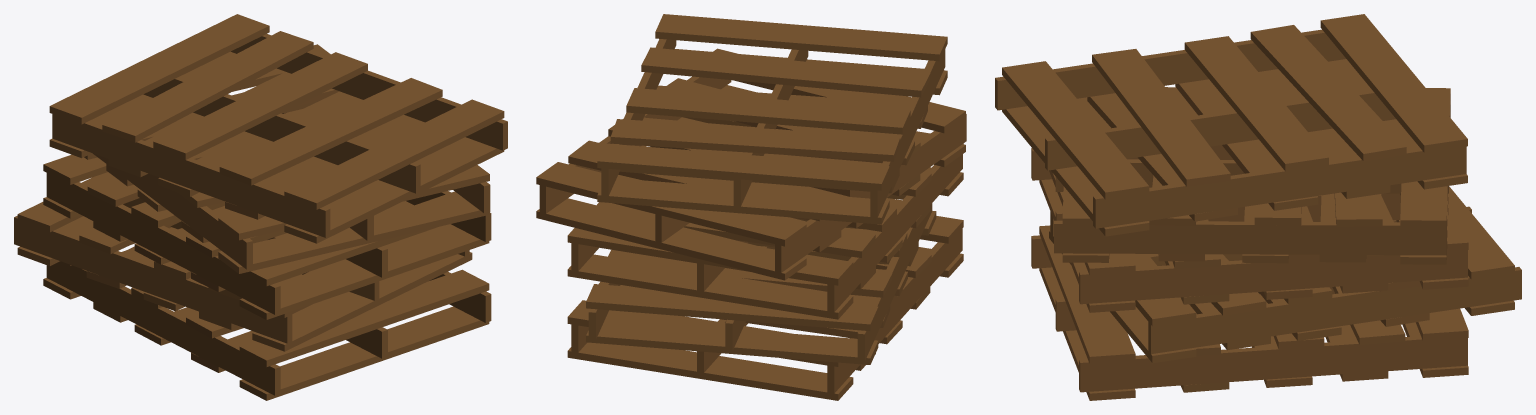
The model's file is Palet_1.fbx.
The picture shows the model from 3 angles, left to right: view 1: azimuth 30°, elevation 25°; view 2: azimuth 150°, elevation 25°; view 3: azimuth 270°, elevation 25°; orthographic projection. The views are drawn at different scales.
Parts seen in each view (by area): view 1: Palet-1; view 2: Palet-1; view 3: Palet-1.
Boxes of the visible parts, bbox=[...] form: Palet-1: bbox=[14, 14, 507, 400]; Palet-1: bbox=[536, 14, 966, 400]; Palet-1: bbox=[995, 14, 1521, 400].
Bounding box in the file's own units: 3.81 × 2.12 × 4.61.
